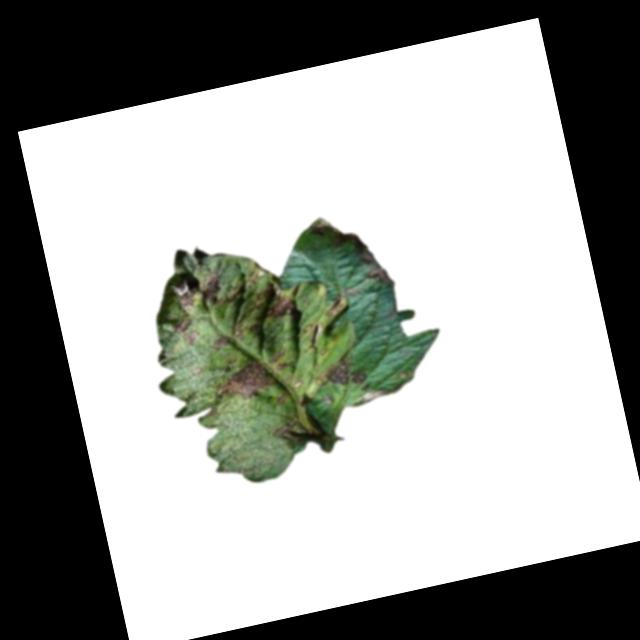Early_blight: (233, 261, 299, 328), (212, 355, 282, 402), (160, 277, 203, 352), (319, 348, 367, 392), (357, 236, 395, 290), (197, 268, 234, 312), (209, 322, 247, 354), (271, 415, 305, 449)
